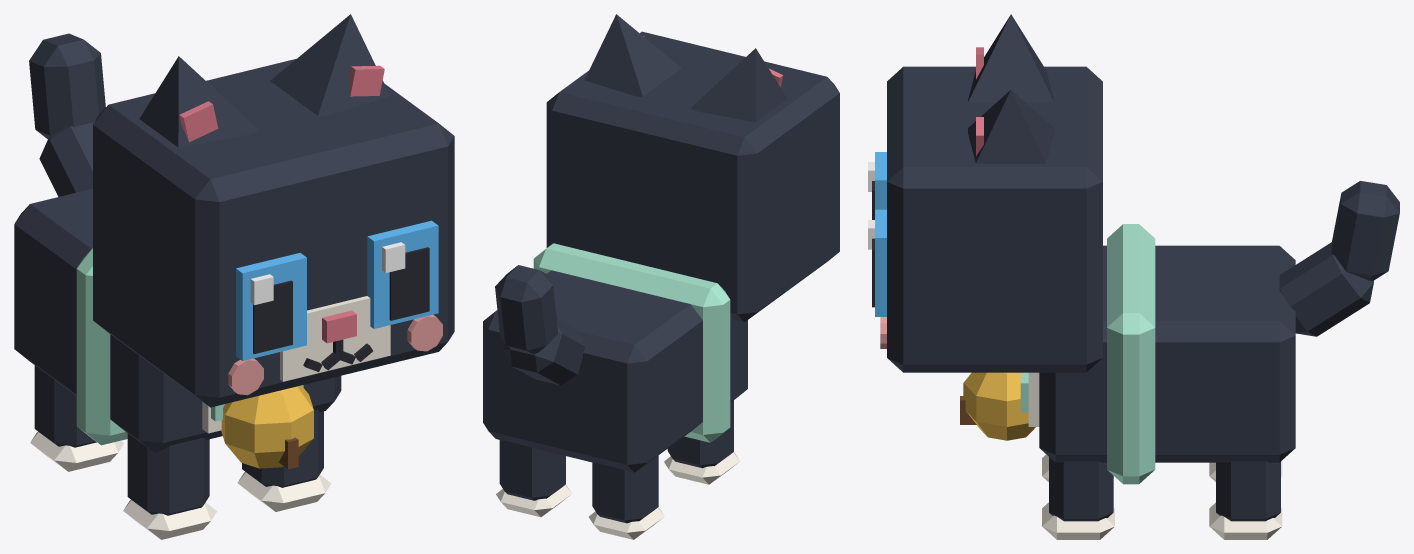
The model's file is CleanACat_Cat_Suds.fbx.
The picture shows the model from 3 angles, left to right: view 1: azimuth 30°, elevation 25°; view 2: azimuth 150°, elevation 25°; view 3: azimuth 270°, elevation 25°; orthographic projection. The views are drawn at different scales.
Parts seen in each view (by area): view 1: CleanACat_Cat_Suds_Head, CleanACat_Cat_Suds_Body, CleanACat_Cat_Suds_Collar, CleanACat_Cat_Suds_Tail, CleanACat_Cat_Suds_LegF2, CleanACat_Cat_Suds_Eye1, CleanACat_Cat_Suds_Eye2, CleanACat_Cat_Suds_EarL, CleanACat_Cat_Suds_EarR, CleanACat_Cat_Suds_LegB2, CleanACat_Cat_Suds_LegF1; view 2: CleanACat_Cat_Suds_Head, CleanACat_Cat_Suds_Body, CleanACat_Cat_Suds_Collar, CleanACat_Cat_Suds_Tail, CleanACat_Cat_Suds_LegB2, CleanACat_Cat_Suds_EarL, CleanACat_Cat_Suds_LegB1, CleanACat_Cat_Suds_EarR, CleanACat_Cat_Suds_LegF2; view 3: CleanACat_Cat_Suds_Head, CleanACat_Cat_Suds_Body, CleanACat_Cat_Suds_Collar, CleanACat_Cat_Suds_Tail, CleanACat_Cat_Suds_LegB1, CleanACat_Cat_Suds_LegF1, CleanACat_Cat_Suds_EarL, CleanACat_Cat_Suds_EarR, CleanACat_Cat_Suds_Eye1, CleanACat_Cat_Suds_Eye2.
Boxes of the visible parts, bbox=[...] form: CleanACat_Cat_Suds_Head: bbox=[93, 59, 454, 407]; CleanACat_Cat_Suds_Body: bbox=[14, 188, 341, 452]; CleanACat_Cat_Suds_Collar: bbox=[76, 248, 313, 469]; CleanACat_Cat_Suds_Tail: bbox=[29, 33, 105, 196]; CleanACat_Cat_Suds_LegF2: bbox=[123, 433, 216, 539]; CleanACat_Cat_Suds_Eye1: bbox=[367, 220, 438, 328]; CleanACat_Cat_Suds_Eye2: bbox=[236, 252, 306, 360]; CleanACat_Cat_Suds_EarL: bbox=[270, 14, 389, 115]; CleanACat_Cat_Suds_EarR: bbox=[139, 56, 259, 147]; CleanACat_Cat_Suds_LegB2: bbox=[30, 365, 123, 471]; CleanACat_Cat_Suds_LegF1: bbox=[237, 409, 331, 511]; CleanACat_Cat_Suds_Head: bbox=[546, 31, 839, 322]; CleanACat_Cat_Suds_Body: bbox=[483, 270, 747, 472]; CleanACat_Cat_Suds_Collar: bbox=[533, 243, 730, 442]; CleanACat_Cat_Suds_Tail: bbox=[495, 265, 585, 385]; CleanACat_Cat_Suds_LegB2: bbox=[589, 455, 664, 539]; CleanACat_Cat_Suds_EarL: bbox=[584, 14, 681, 96]; CleanACat_Cat_Suds_LegB1: bbox=[496, 440, 571, 517]; CleanACat_Cat_Suds_EarR: bbox=[690, 48, 787, 122]; CleanACat_Cat_Suds_LegF2: bbox=[664, 400, 739, 484]; CleanACat_Cat_Suds_Head: bbox=[880, 66, 1102, 372]; CleanACat_Cat_Suds_Body: bbox=[1028, 245, 1295, 462]; CleanACat_Cat_Suds_Collar: bbox=[960, 224, 1155, 484]; CleanACat_Cat_Suds_Tail: bbox=[1279, 181, 1399, 336]; CleanACat_Cat_Suds_LegB1: bbox=[1209, 461, 1282, 539]; CleanACat_Cat_Suds_LegF1: bbox=[1042, 457, 1114, 539]; CleanACat_Cat_Suds_EarL: bbox=[968, 90, 1054, 163]; CleanACat_Cat_Suds_EarR: bbox=[968, 14, 1054, 102]; CleanACat_Cat_Suds_Eye1: bbox=[868, 209, 886, 316]; CleanACat_Cat_Suds_Eye2: bbox=[868, 152, 886, 219].
Size of the model in its own units: 1 by 1.86 by 1.97.
1 material, 1 textured.
